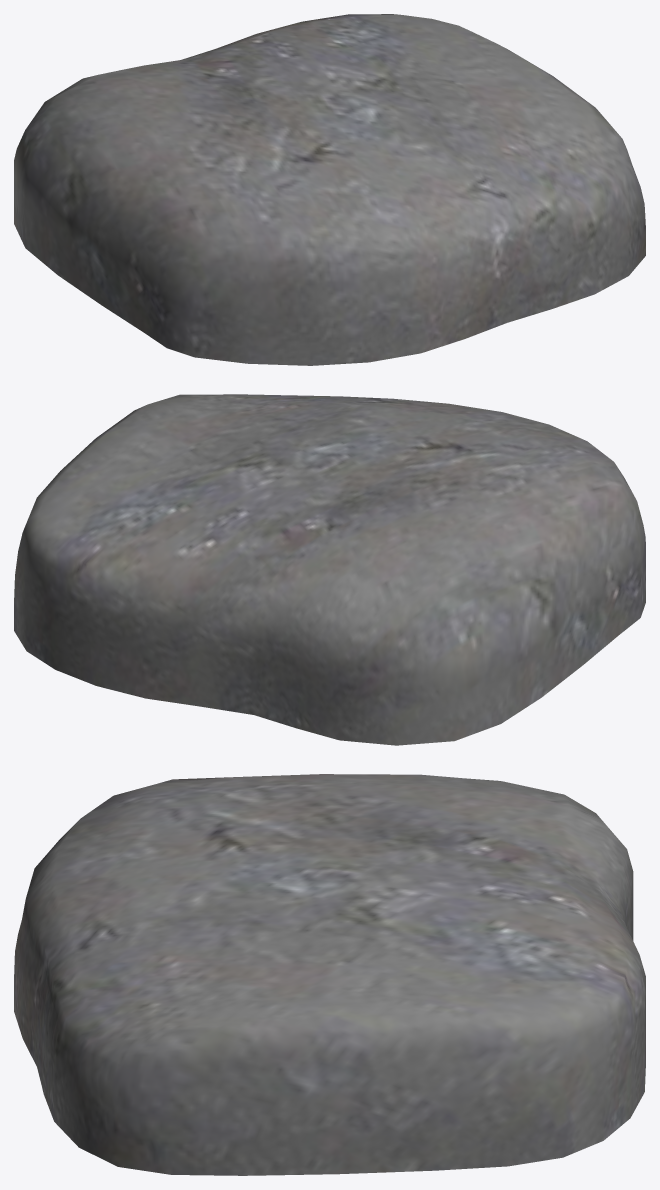
The model's file is SM_Sun_Dae_Stone_H.fbx.
3 renders of one model, top to bottom at view 1: azimuth 30°, elevation 25°; view 2: azimuth 150°, elevation 25°; view 3: azimuth 270°, elevation 25°, orthographic. The views are drawn at different scales.
Parts seen in each view (by area): view 1: SM_Sun_Dae_Stone_H; view 2: SM_Sun_Dae_Stone_H; view 3: SM_Sun_Dae_Stone_H.
Boxes of the visible parts, box(x1,y1,x2,y2) form: SM_Sun_Dae_Stone_H: box(14, 14, 645, 365); SM_Sun_Dae_Stone_H: box(14, 394, 645, 745); SM_Sun_Dae_Stone_H: box(14, 774, 645, 1175).
Size of the model in its own units: 80.19 by 22.99 by 77.7.
